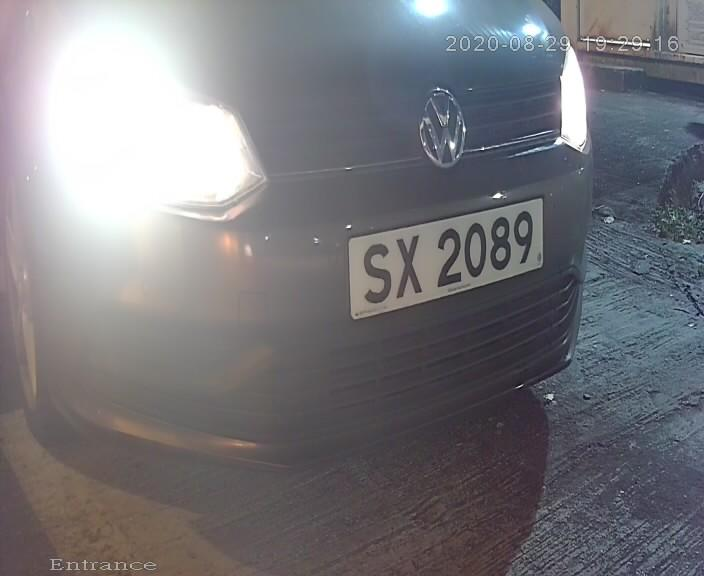License Plate: (346, 191, 538, 319)
